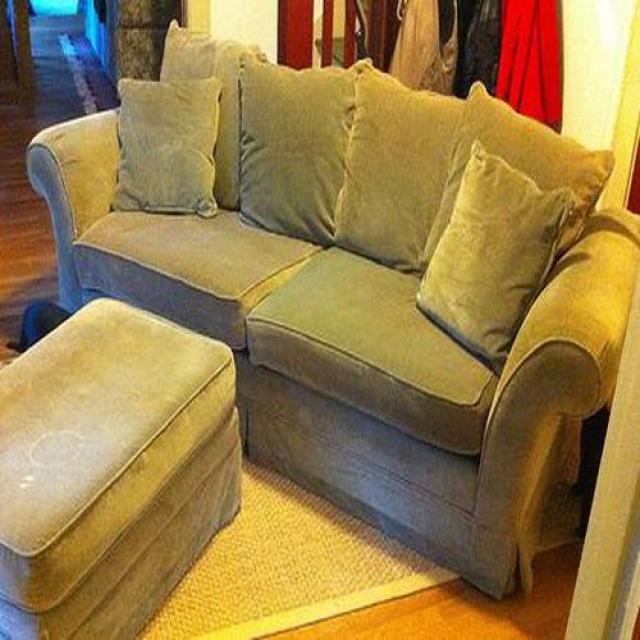sofa: (27, 24, 640, 600)
